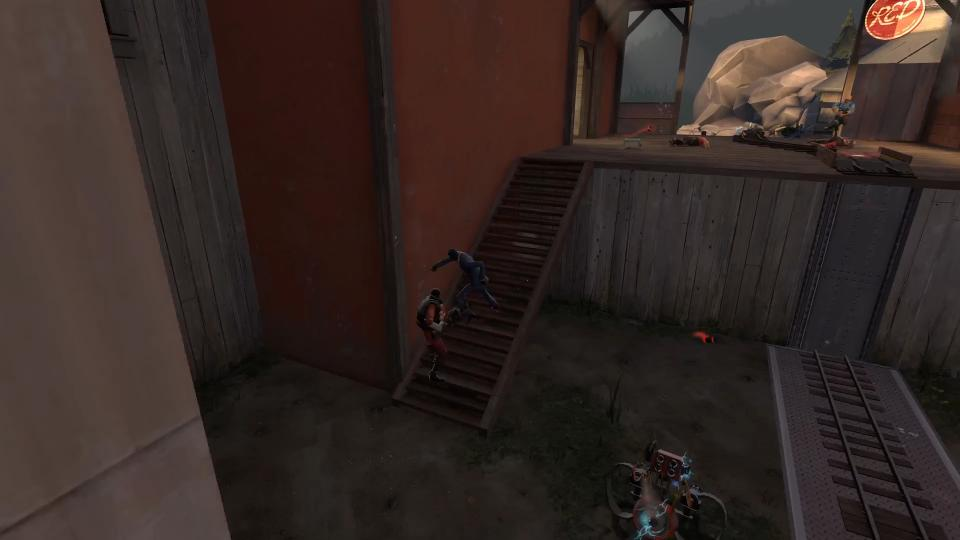Enemy: (418, 288, 461, 382), (440, 245, 498, 300), (826, 95, 854, 138), (808, 137, 856, 148)
